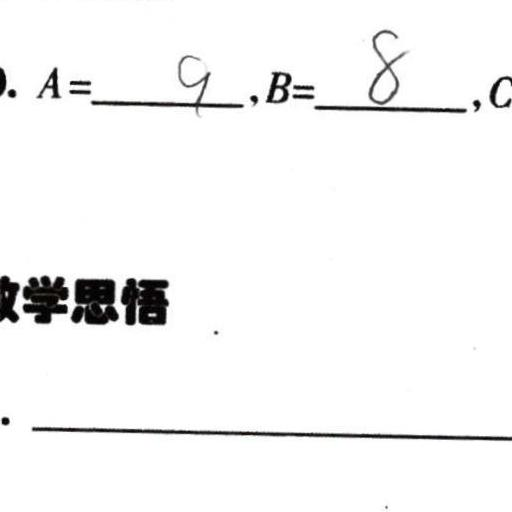ans: (361, 22, 408, 104), (172, 47, 210, 116)
